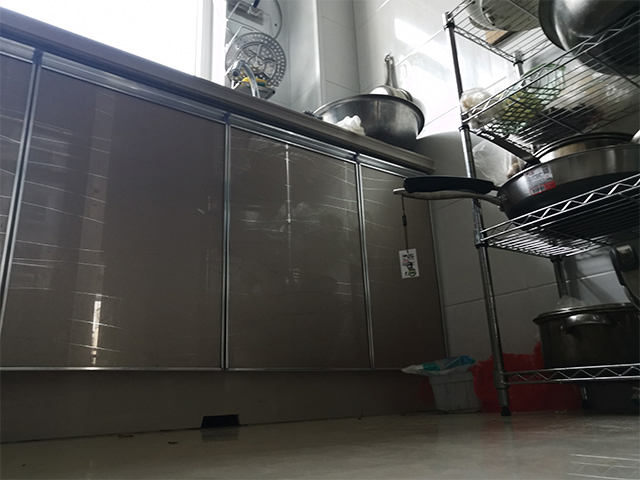cabinet: (1, 2, 366, 447)
trashcan: (425, 357, 486, 414)
